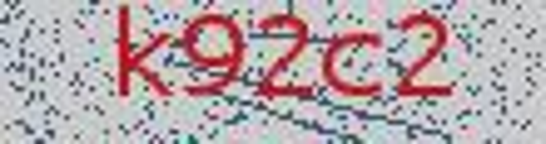2: (395, 6, 471, 106), (251, 12, 316, 103)
9: (179, 7, 247, 102)
c: (320, 23, 388, 105)
k: (103, 1, 174, 108)
